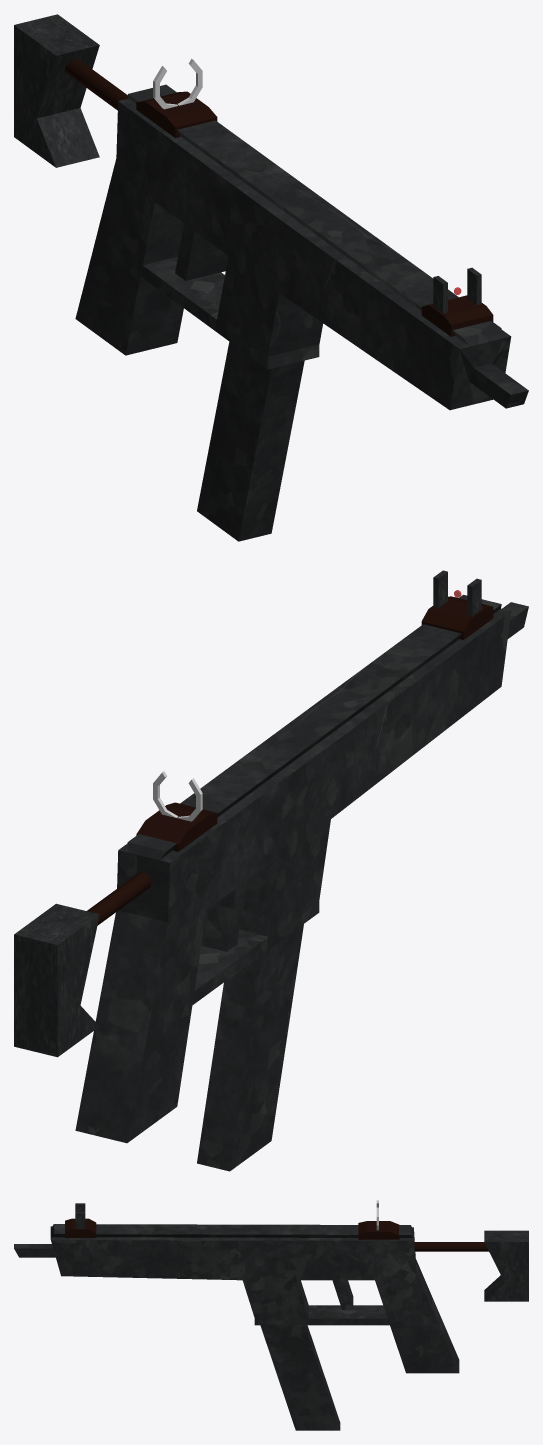
Rendered from SubmachineGun.obj.
The picture shows the model from 3 angles, top to bottom: view 1: azimuth 30°, elevation 25°; view 2: azimuth 150°, elevation 25°; view 3: azimuth 270°, elevation 25°; orthographic projection. The views are drawn at different scales.
Visible parts, largest first — view 1: Pistol_Cube, Cube_Cube.001, Cube.001_Cube.002, Cube.002_Cube.003, Cylinder, Circle; view 2: Pistol_Cube, Cube_Cube.001, Cube.001_Cube.002, Cube.002_Cube.003, Cylinder, Circle; view 3: Pistol_Cube, Cube_Cube.001, Cube.001_Cube.002, Cylinder, Cube.002_Cube.003.
Boxes of the visible parts, <box> form: Pistol_Cube: <box>75,84,528,541</box>; Cube_Cube.001: <box>14,14,99,167</box>; Cube.001_Cube.002: <box>136,91,217,137</box>; Cube.002_Cube.003: <box>421,295,493,336</box>; Cylinder: <box>64,59,128,110</box>; Circle: <box>153,58,202,109</box>; Pistol_Cube: <box>75,594,528,1171</box>; Cube_Cube.001: <box>14,903,99,1057</box>; Cube.001_Cube.002: <box>136,802,217,851</box>; Cube.002_Cube.003: <box>421,596,493,639</box>; Cylinder: <box>87,872,151,925</box>; Circle: <box>153,771,202,821</box>; Pistol_Cube: <box>14,1224,459,1430</box>; Cube_Cube.001: <box>484,1230,528,1301</box>; Cube.001_Cube.002: <box>358,1221,399,1239</box>; Cylinder: <box>414,1242,488,1251</box>; Cube.002_Cube.003: <box>65,1218,96,1237</box>.
Size of the model in its own units: 0.097 by 0.7488 by 1.57.
4 materials, 1 textured.
